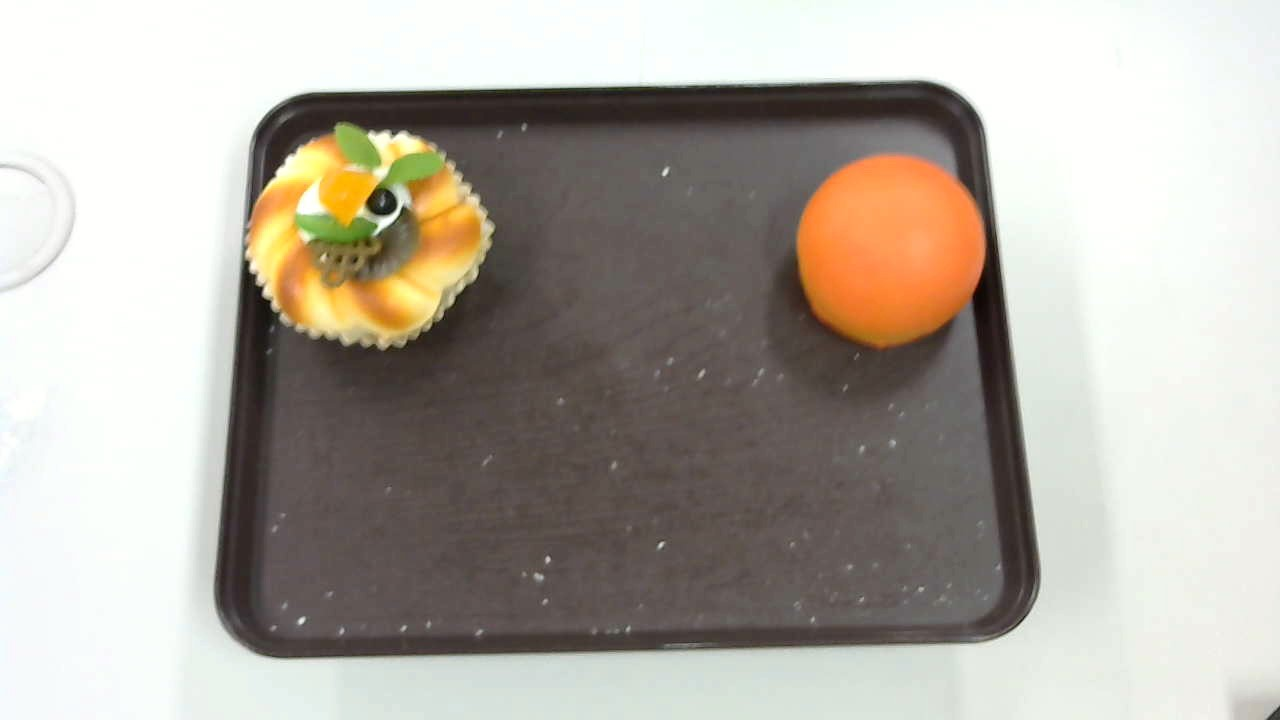bun: (796, 154, 987, 349)
fruit tart: (243, 120, 494, 351)
